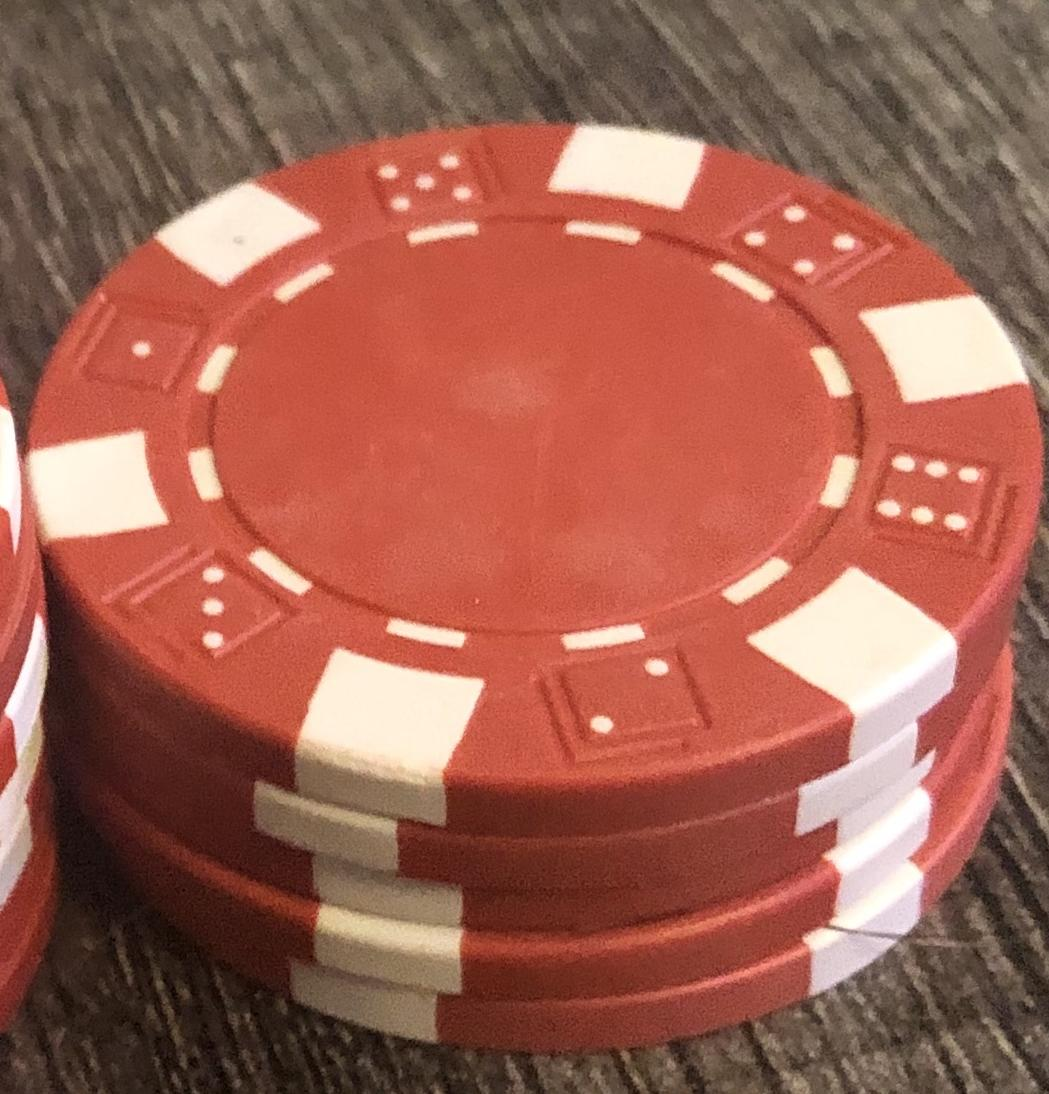Chip: (1, 1, 1049, 1094)
